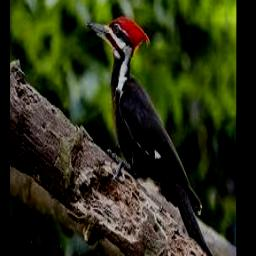Woodpecker: (86, 15, 216, 256)
